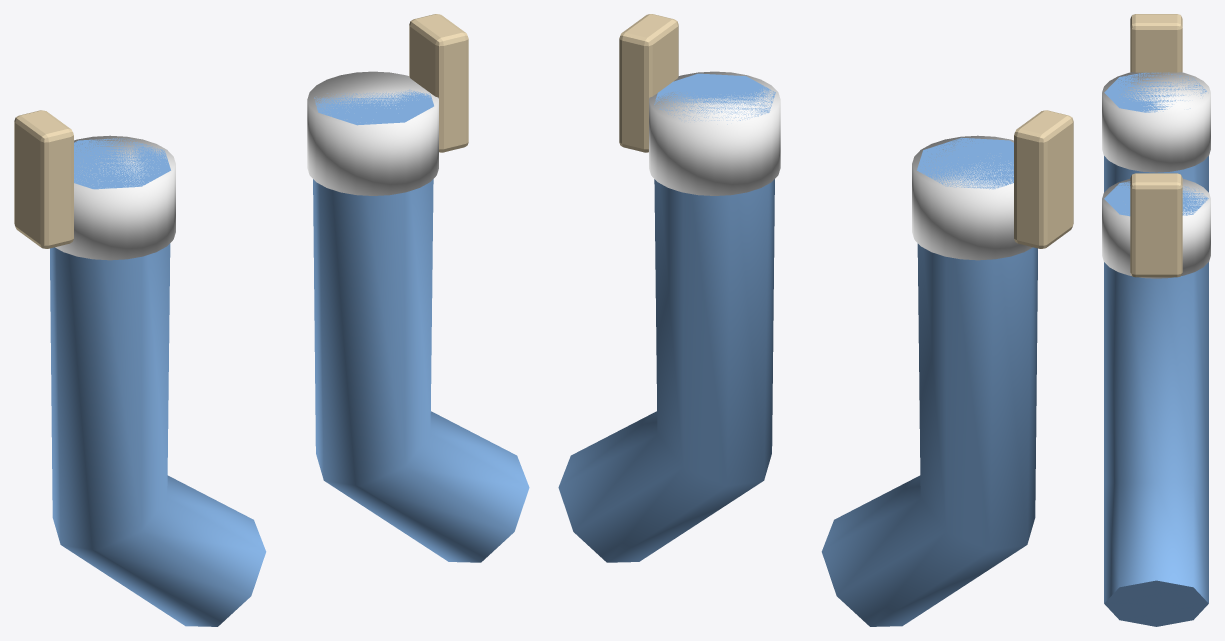
Rendered from socks.glb.
3 renders of one model, left to right at view 1: azimuth 30°, elevation 25°; view 2: azimuth 150°, elevation 25°; view 3: azimuth 270°, elevation 25°, orthographic. The views are drawn at different scales.
Parts seen in each view (by area): view 1: socks; view 2: socks; view 3: socks.
Boxes of the visible parts, <box> form: socks: <box>14,14,529,626</box>; socks: <box>558,14,1073,626</box>; socks: <box>1102,14,1210,626</box>.
Size of the model in its own units: 0.4462 by 0.469 by 0.104.
